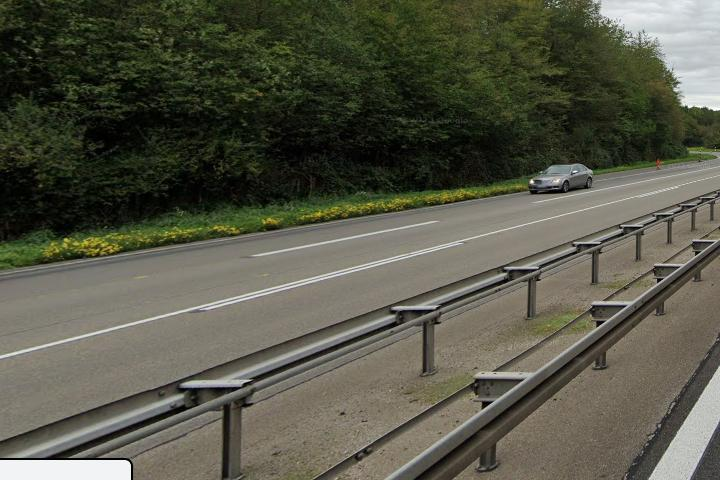vehicle: (526, 160, 596, 194)
